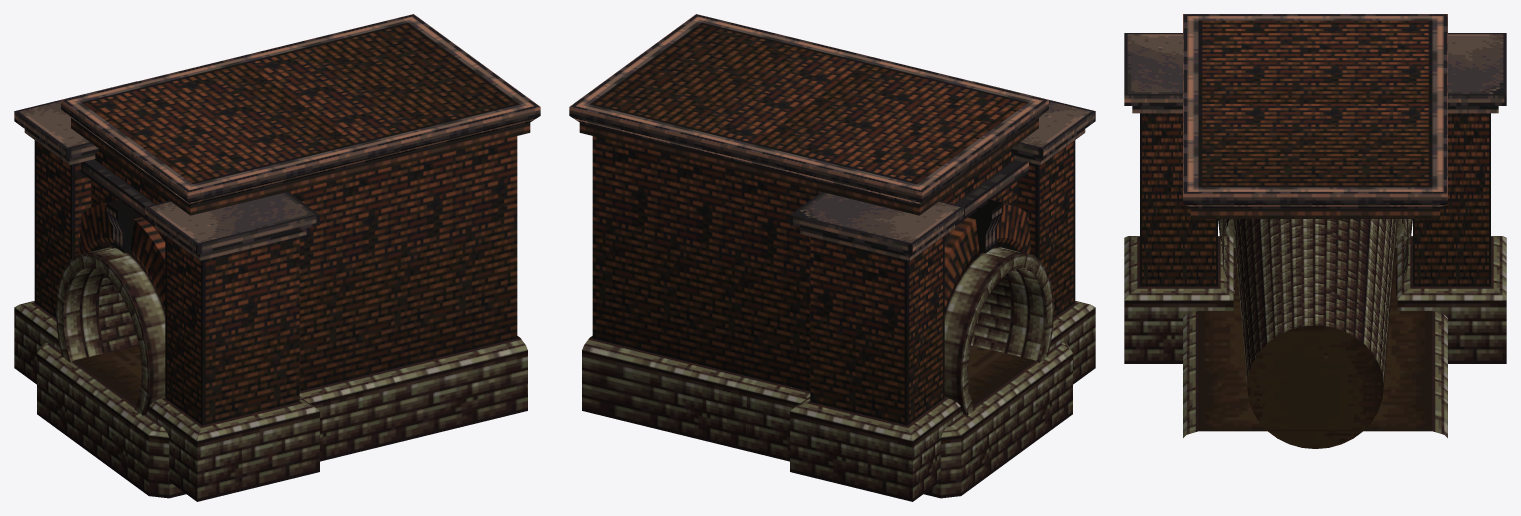
The model's file is EnvBdgMD_Factory_B_Drain_A.FBX.
3 views of the same model, side by side, from view 1: azimuth 30°, elevation 25°; view 2: azimuth 150°, elevation 25°; view 3: azimuth 270°, elevation 25° (orthographic). The views are drawn at different scales.
Visible parts, largest first — view 1: EnvBdgMD_Factory_B_Drain_A; view 2: EnvBdgMD_Factory_B_Drain_A; view 3: EnvBdgMD_Factory_B_Drain_A.
Boxes of the visible parts, <box> form: EnvBdgMD_Factory_B_Drain_A: <box>14,14,540,501</box>; EnvBdgMD_Factory_B_Drain_A: <box>569,14,1095,501</box>; EnvBdgMD_Factory_B_Drain_A: <box>1124,14,1506,448</box>.
Size of the model in its own units: 595 by 445 by 490.
